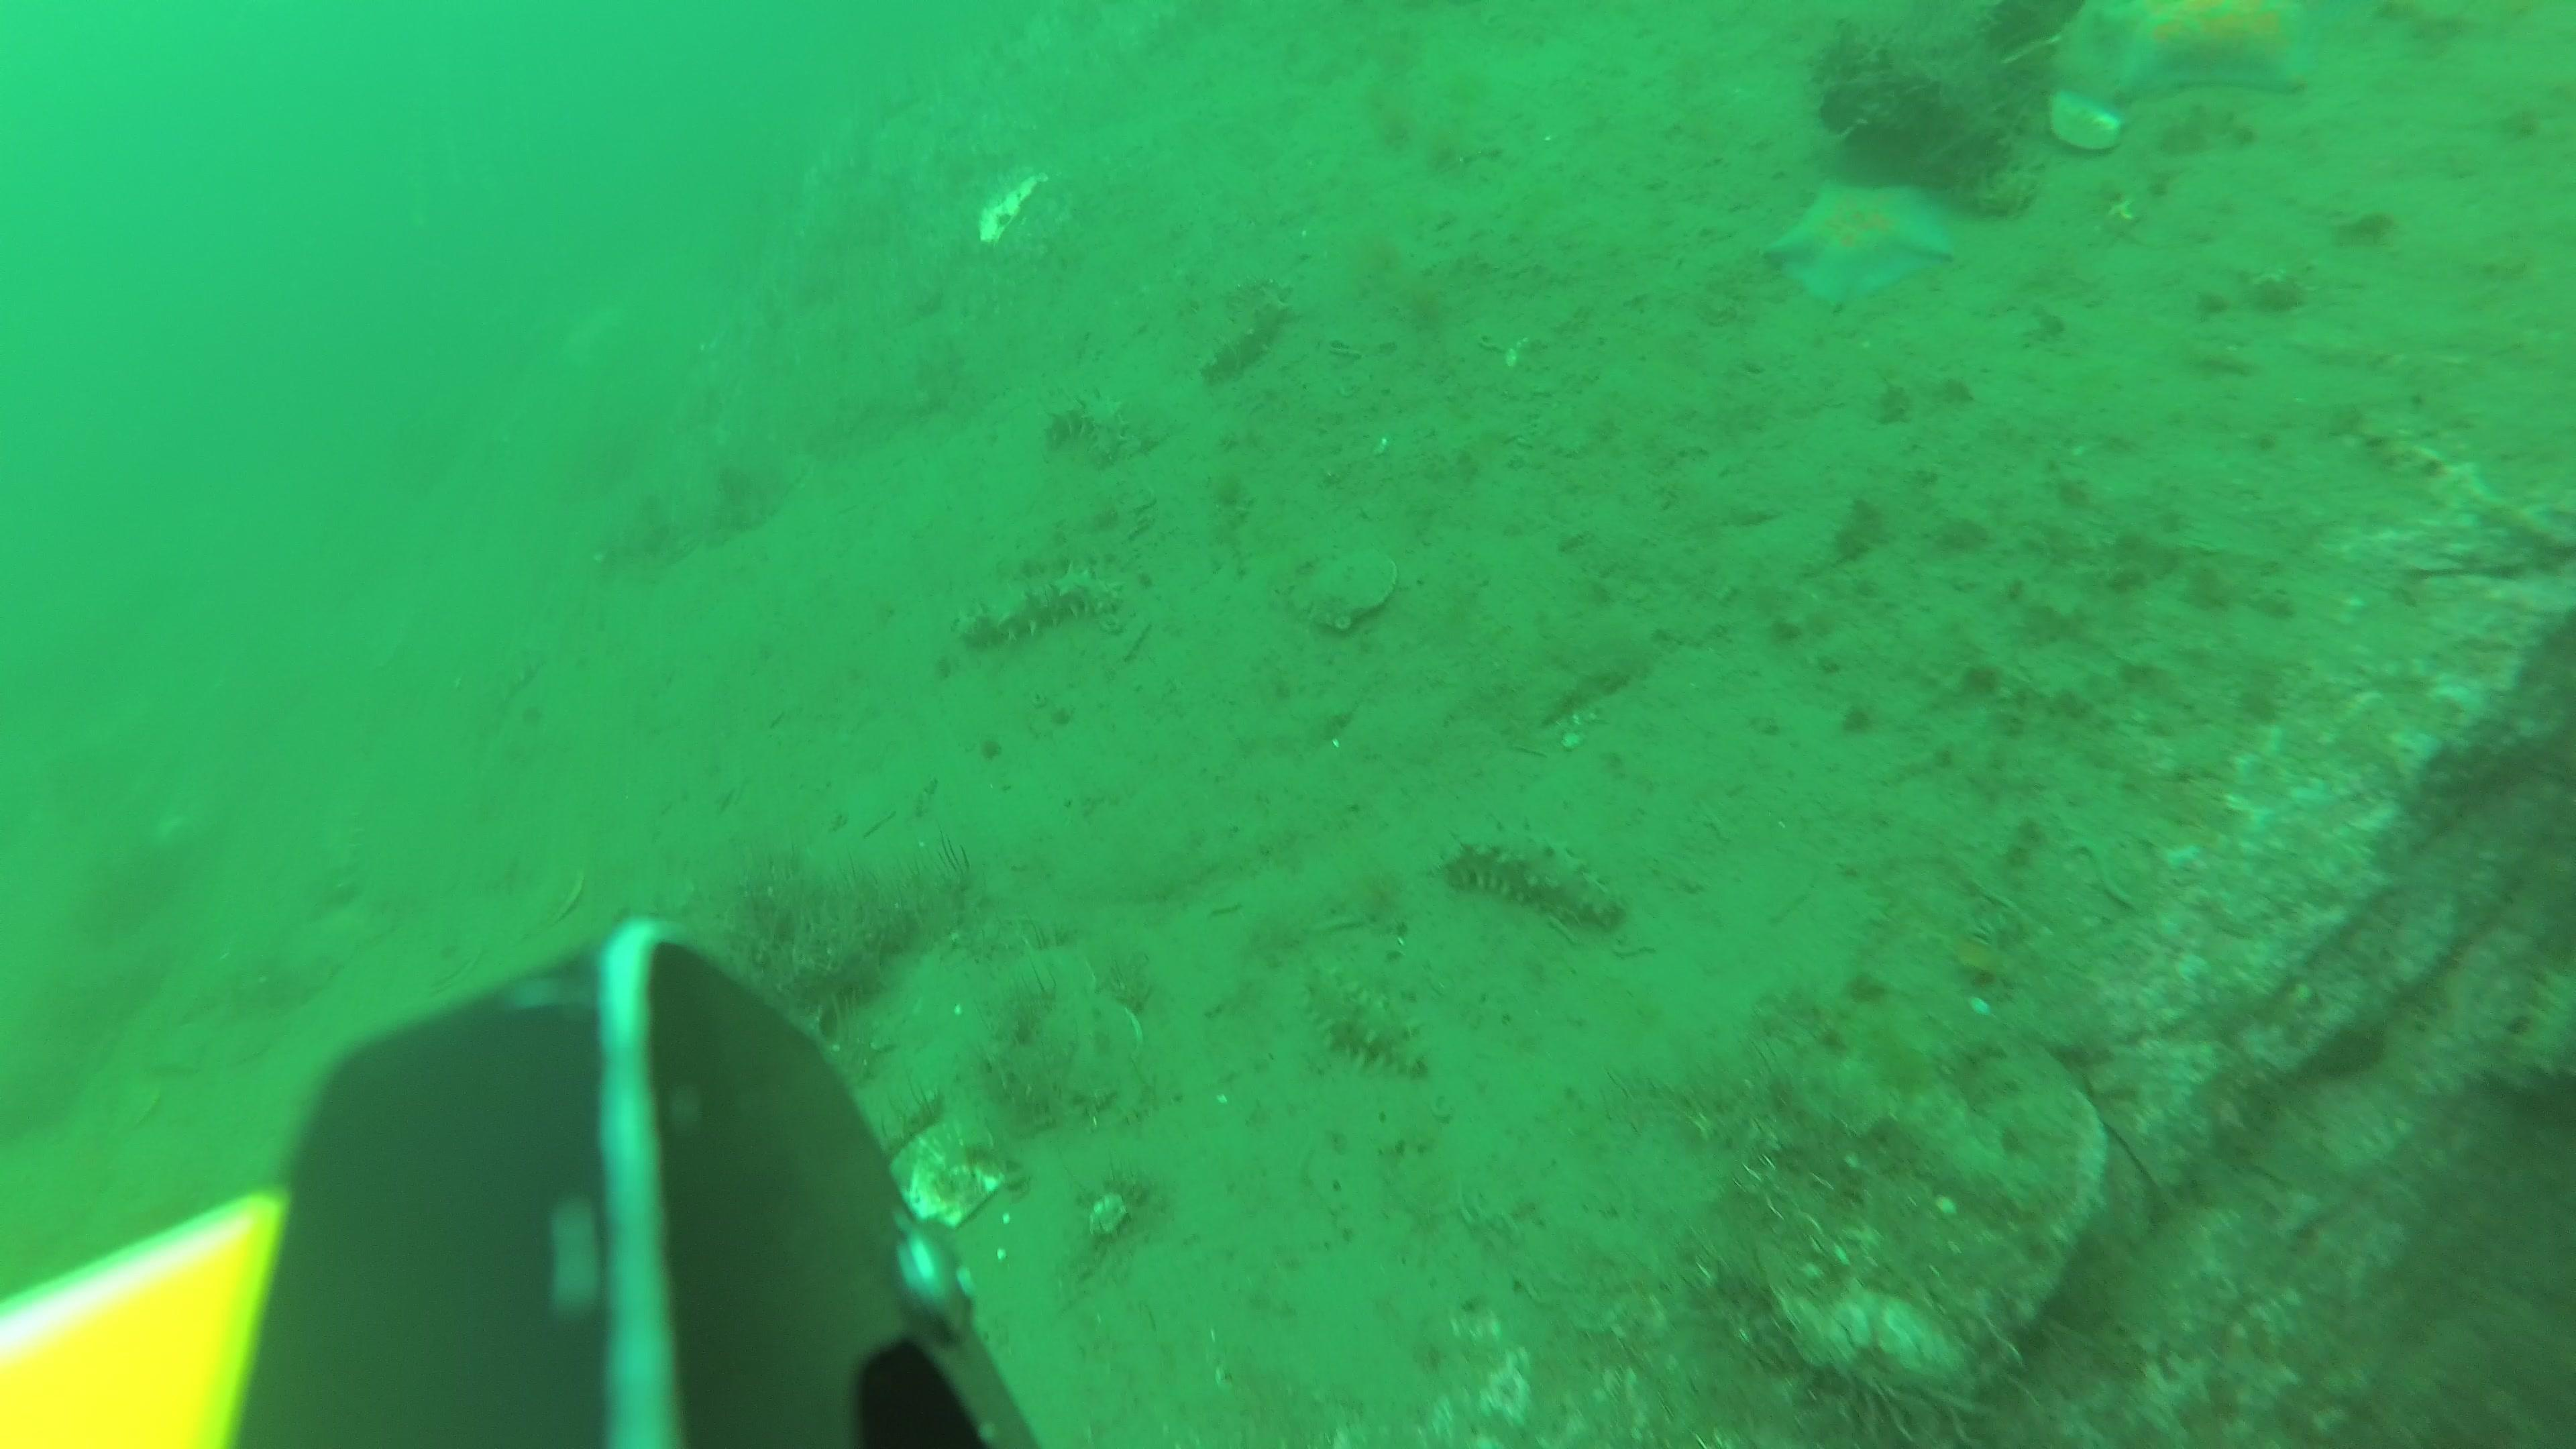holothurian: (1447, 828, 1626, 931), (1302, 962, 1426, 1081), (961, 564, 1118, 649), (1203, 290, 1288, 384), (2511, 966, 2576, 1085), (478, 640, 547, 750), (1042, 395, 1132, 462), (320, 816, 364, 909)
scallop: (888, 1111, 1000, 1233), (977, 943, 1095, 1053), (1035, 998, 1141, 1115), (1299, 548, 1399, 635), (1980, 0, 2088, 55), (2051, 92, 2121, 147)
starfish: (2058, 0, 2319, 113), (1769, 179, 1953, 308)
